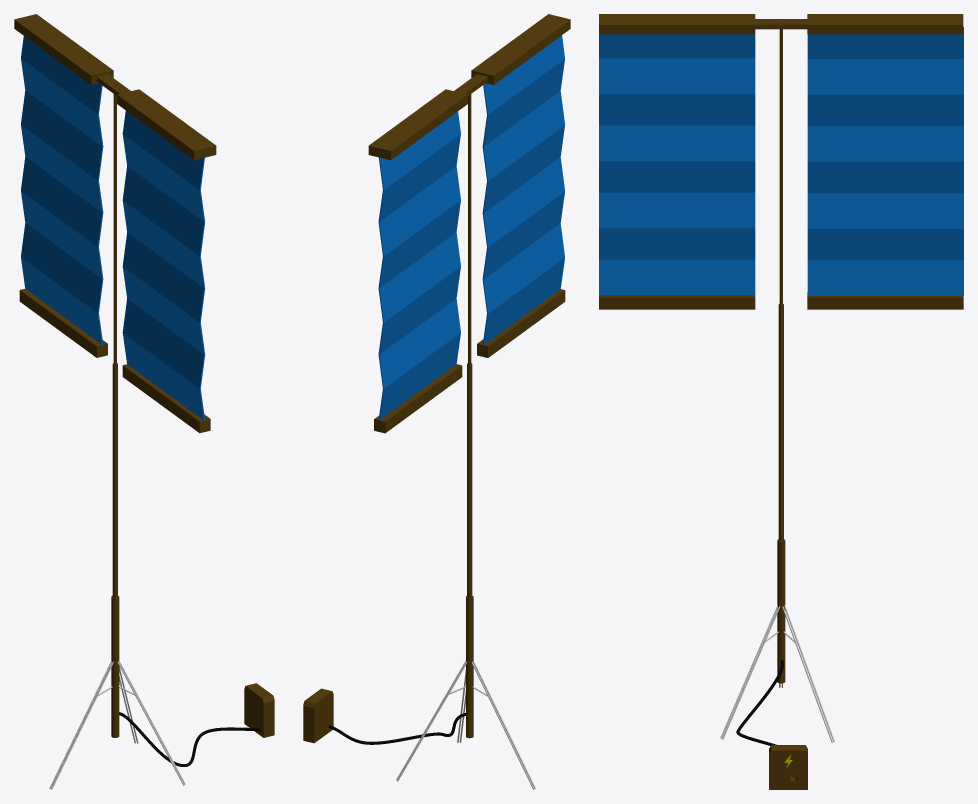
The model's file is vertical_solar.obj.
3 views of the same model, side by side, from view 1: azimuth 30°, elevation 25°; view 2: azimuth 150°, elevation 25°; view 3: azimuth 270°, elevation 25° (orthographic).
Visible parts, largest first — view 1: Panel_2_Flipped, Panel_1, Top_Structure, Mast, Underpanel_1, Underpanel_2, Charger, Wire, Leg_1, Leg_2; view 2: Panel_2_Flipped, Panel_1, Top_Structure, Mast, Underpanel_1, Underpanel_2, Charger, Wire, Leg_1, Leg_3; view 3: Panel_1, Panel_2_Flipped, Top_Structure, Mast, Underpanel_1, Underpanel_2, Charger, Leg_3.
Boxes of the visible parts, x1,y1,x2,y2 form: Panel_2_Flipped: (122, 110, 205, 420); Panel_1: (21, 36, 103, 344); Top_Structure: (14, 14, 216, 160); Mast: (111, 83, 119, 737); Underpanel_1: (19, 288, 107, 357); Underpanel_2: (122, 364, 210, 433); Charger: (244, 683, 274, 737); Wire: (119, 712, 260, 766); Leg_1: (49, 661, 113, 789); Leg_2: (117, 660, 185, 785); Panel_2_Flipped: (482, 35, 564, 345); Panel_1: (378, 111, 460, 420); Top_Structure: (368, 14, 570, 160); Mast: (466, 83, 473, 738); Underpanel_1: (374, 364, 462, 433); Underpanel_2: (477, 289, 565, 357); Charger: (303, 688, 333, 743); Wire: (328, 713, 465, 744); Leg_1: (471, 660, 535, 789); Leg_3: (396, 660, 467, 781); Panel_1: (807, 27, 963, 295); Panel_2_Flipped: (599, 34, 755, 294); Top_Structure: (599, 14, 963, 34); Mast: (777, 20, 785, 683); Underpanel_1: (807, 292, 963, 309); Underpanel_2: (599, 295, 755, 309); Charger: (769, 745, 807, 789); Leg_3: (782, 605, 834, 742).
Bounding box in the file's own units: 4.92 × 14.84 × 7.01.
